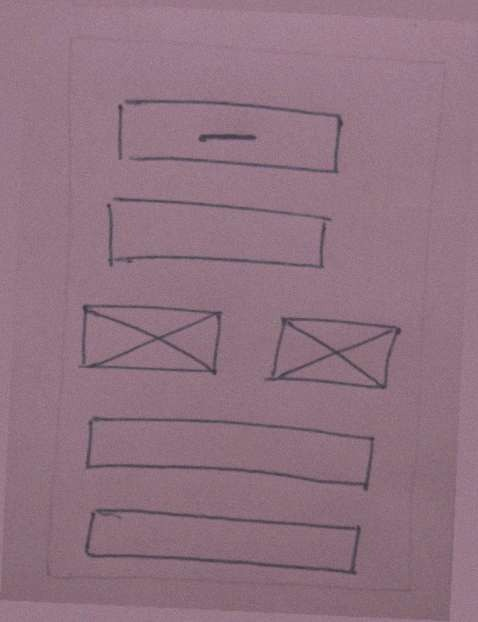button: (102, 86, 355, 184)
image: (76, 291, 227, 385), (259, 302, 410, 396)
text_input: (77, 407, 381, 496), (76, 500, 381, 581), (97, 188, 335, 283)
